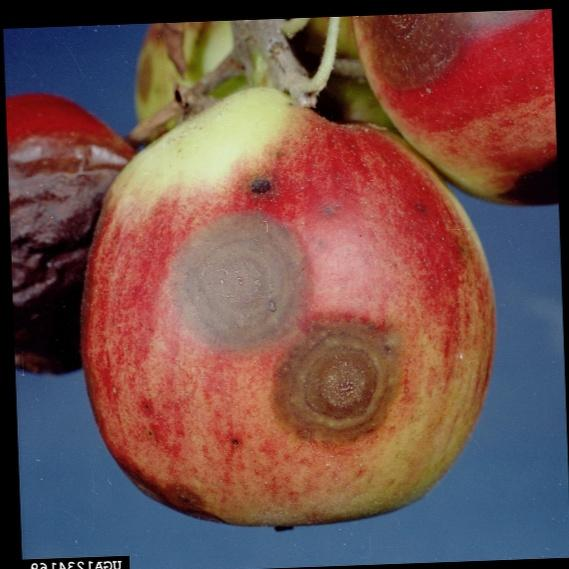rotten apple: (78, 93, 497, 530), (10, 79, 143, 379), (361, 12, 555, 207)
